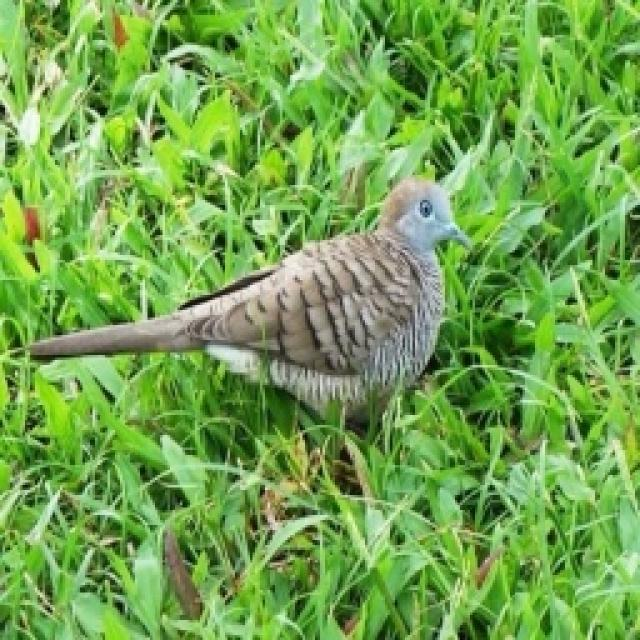sparrow: (22, 173, 472, 435)
